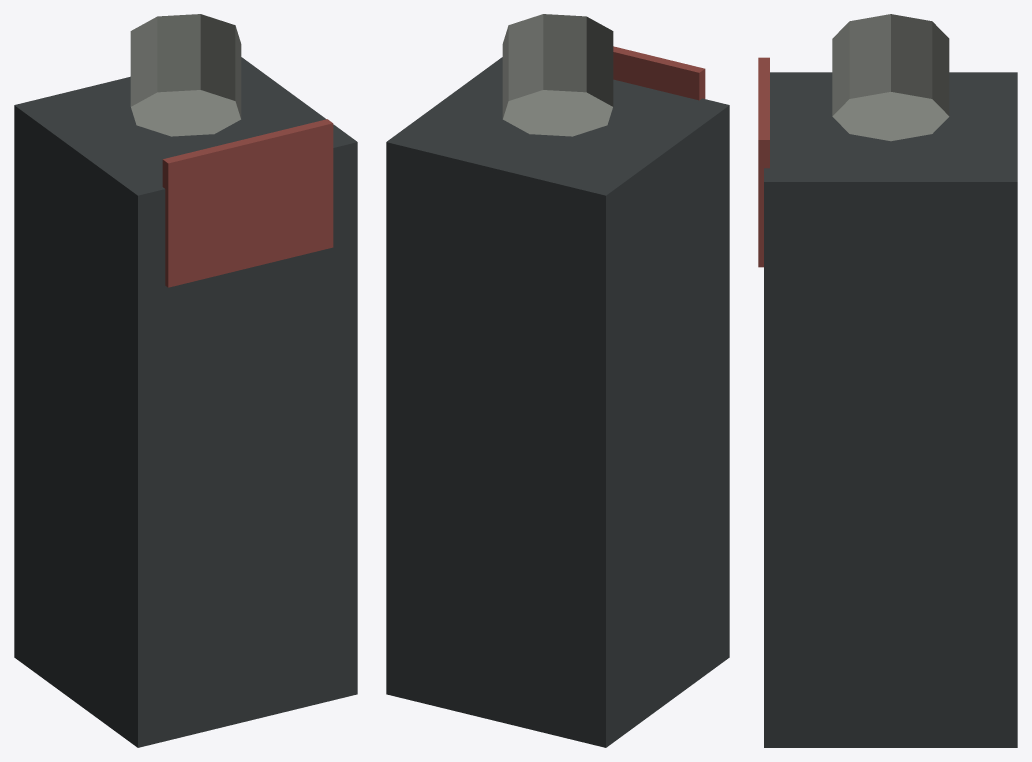
File: mincer.glb
The picture shows the model from 3 angles, left to right: view 1: azimuth 30°, elevation 25°; view 2: azimuth 150°, elevation 25°; view 3: azimuth 270°, elevation 25°; orthographic projection. The views are drawn at different scales.
Parts seen in each view (by area): view 1: body; view 2: body; view 3: body.
Part boxes in pixels (left/top/right/bottom): body: left=14, top=14, right=357, bottom=747; body: left=386, top=14, right=729, bottom=747; body: left=758, top=14, right=1017, bottom=747.
Bounding box in the file's own units: 0.4 × 1.11 × 0.399.
Materials: 1 (1 with a texture image).
